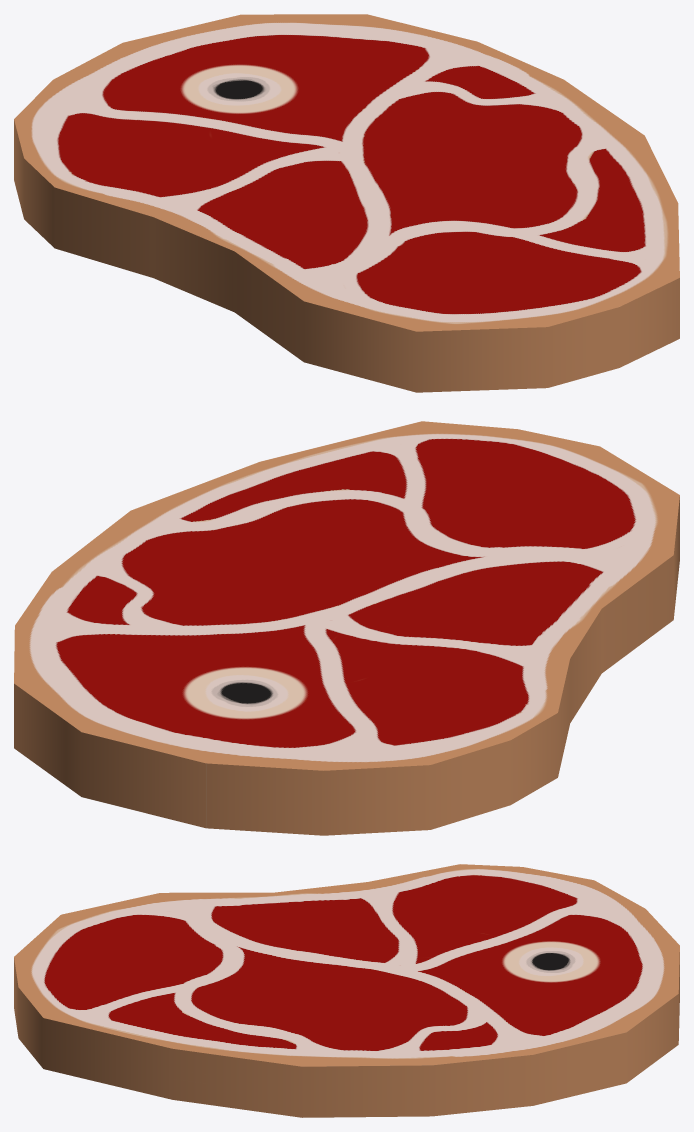
Rendered from Carne.fbx.
The picture shows the model from 3 angles, top to bottom: view 1: azimuth 30°, elevation 25°; view 2: azimuth 150°, elevation 25°; view 3: azimuth 270°, elevation 25°; orthographic projection. The views are drawn at different scales.
Visible parts, largest first — view 1: Carne; view 2: Carne; view 3: Carne.
Boxes of the visible parts, box(x1,y1,x2,y2) form: Carne: box(14, 14, 679, 392); Carne: box(14, 421, 679, 835); Carne: box(14, 864, 679, 1117).
Size of the model in its own units: 222 by 26.1 by 308.
1 material, 1 textured.
